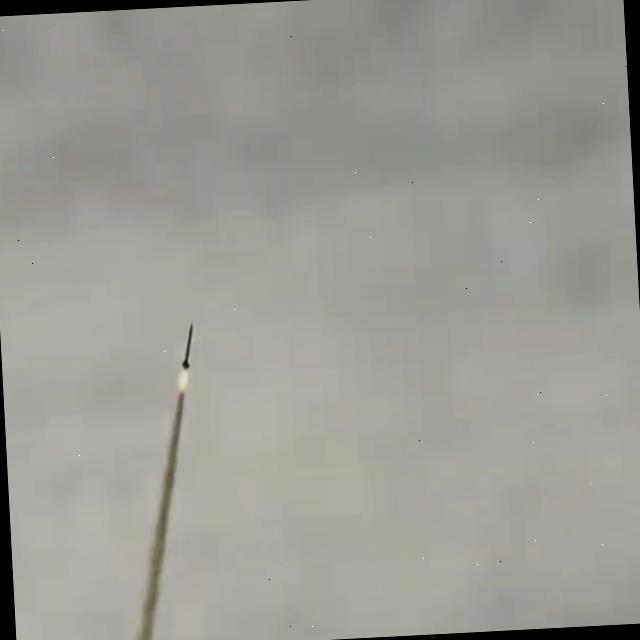smoke_trail_with_rocket: (136, 325, 193, 640)
